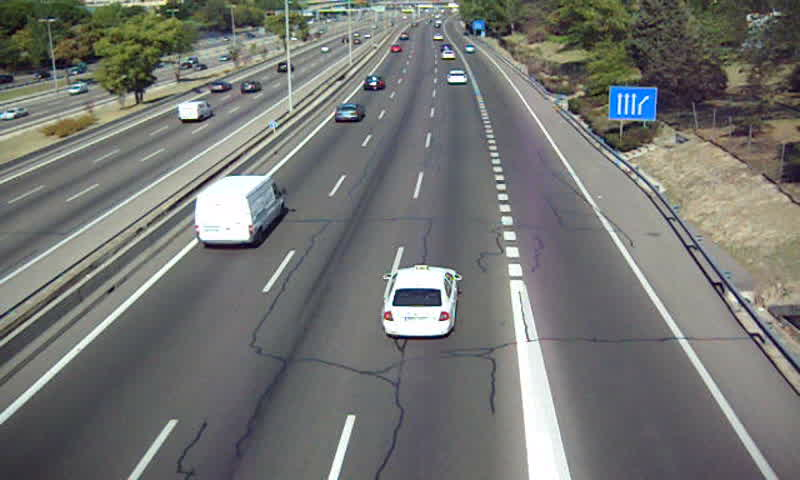car: (383, 266, 457, 338), (334, 103, 364, 124), (362, 75, 385, 93), (445, 70, 469, 86)
van: (194, 176, 284, 246)
